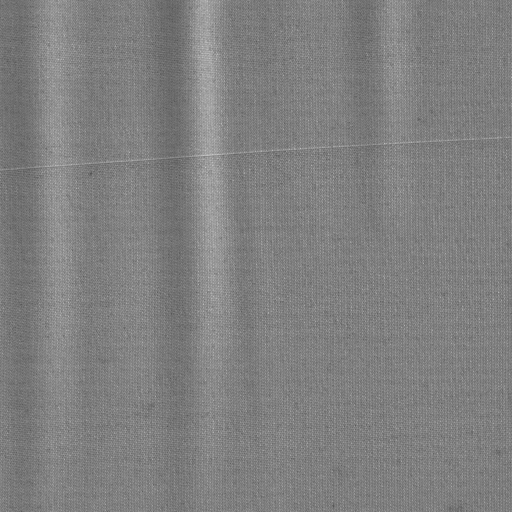defect: (3, 133, 512, 184)
